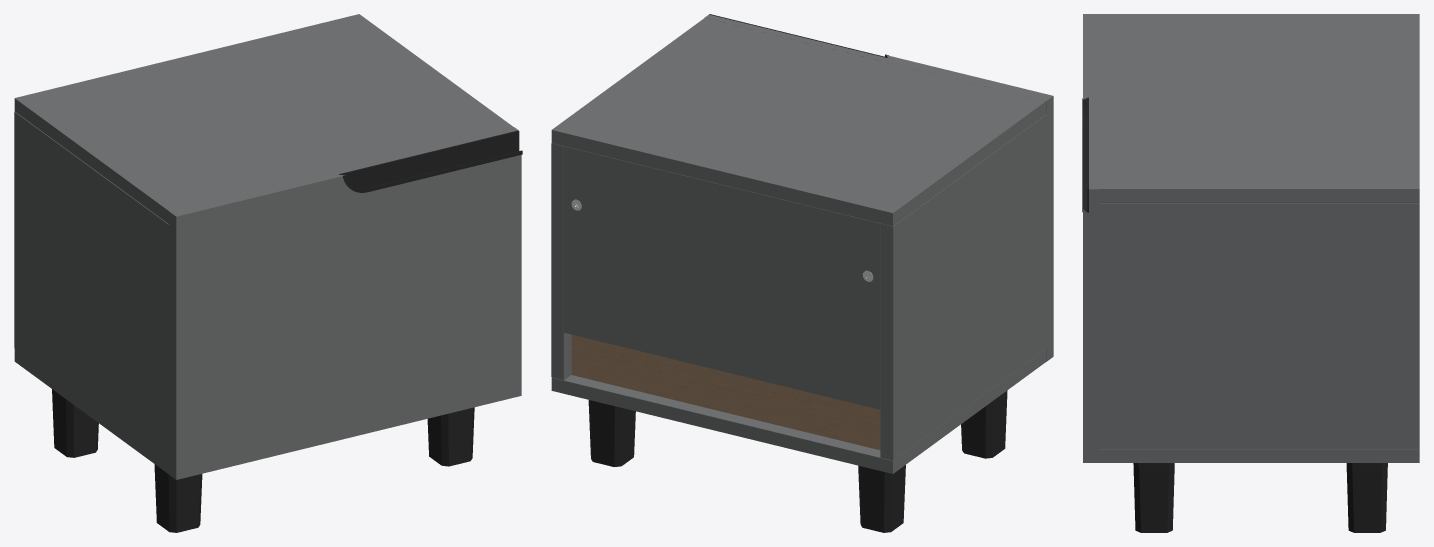
3 views of the same model, side by side, from view 1: azimuth 30°, elevation 25°; view 2: azimuth 150°, elevation 25°; view 3: azimuth 270°, elevation 25° (orthographic). The views are drawn at different scales.
Parts seen in each view (by area): view 1: group_0.094, group_0.015, group_0.088, group_0.143; view 2: group_0.094, group_0.030, group_0.088, group_0.015; view 3: group_0.094, group_0.015, group_0.088, group_0.143.
Part boxes in pixels (x1=…): group_0.094: x1=14, y1=14, x2=512, y2=473; group_0.015: x1=168, y1=127, x2=521, y2=479; group_0.088: x1=52, y1=389, x2=474, y2=532; group_0.143: x1=339, y1=130, x2=522, y2=192; group_0.094: x1=551, y1=18, x2=1046, y2=473; group_0.030: x1=571, y1=334, x2=880, y2=449; group_0.088: x1=588, y1=390, x2=1007, y2=532; group_0.015: x1=704, y1=14, x2=1053, y2=361; group_0.094: x1=1098, y1=14, x2=1419, y2=462; group_0.015: x1=1083, y1=14, x2=1098, y2=462; group_0.088: x1=1133, y1=463, x2=1387, y2=532; group_0.143: x1=1082, y1=97, x2=1088, y2=212.
Bounding box in the file's own units: 0.481 × 0.453 × 0.391.
4 materials, 1 textured.
